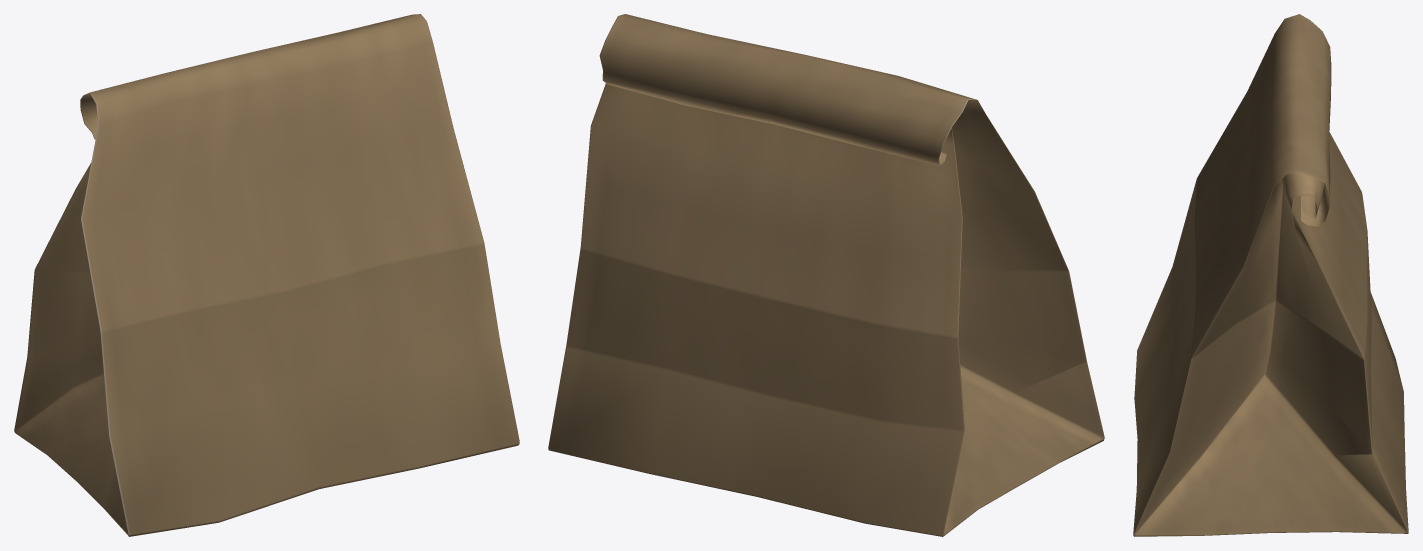
File: SackLunch.fbx
3 views of the same model, side by side, from view 1: azimuth 30°, elevation 25°; view 2: azimuth 150°, elevation 25°; view 3: azimuth 270°, elevation 25° (orthographic). The views are drawn at different scales.
Visible parts, largest first — view 1: SackLunch; view 2: SackLunch; view 3: SackLunch.
Boxes of the visible parts, bbox=[...] form: SackLunch: bbox=[14, 14, 519, 536]; SackLunch: bbox=[548, 14, 1104, 536]; SackLunch: bbox=[1133, 14, 1408, 536].
Size of the model in its own units: 0.7536 by 0.7012 by 0.4763.
